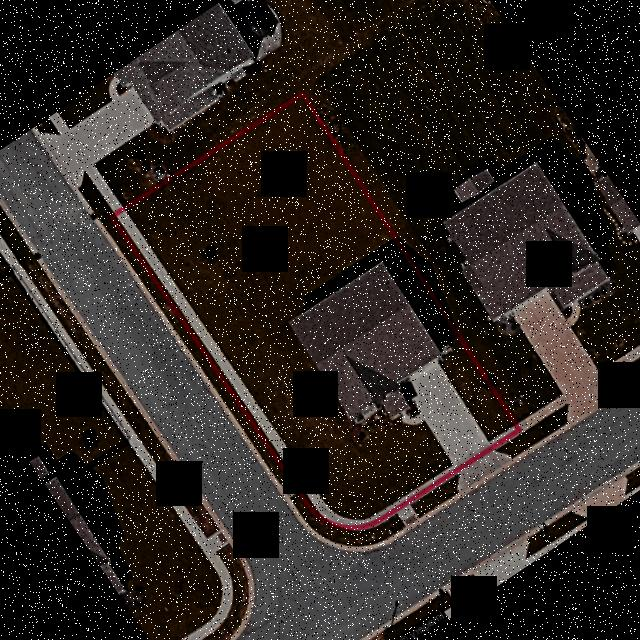Driveway: (409, 358, 489, 464)
Extra Driveway: (458, 450, 510, 492)
Extra Lawn: (101, 214, 291, 484), (293, 491, 403, 545), (413, 476, 458, 516), (495, 433, 533, 456)
Extra Sidewalk: (116, 207, 358, 528), (357, 427, 516, 531), (397, 504, 419, 526), (282, 479, 300, 497)
House: (290, 262, 441, 421)
Sidewalk: (402, 411, 425, 424)
